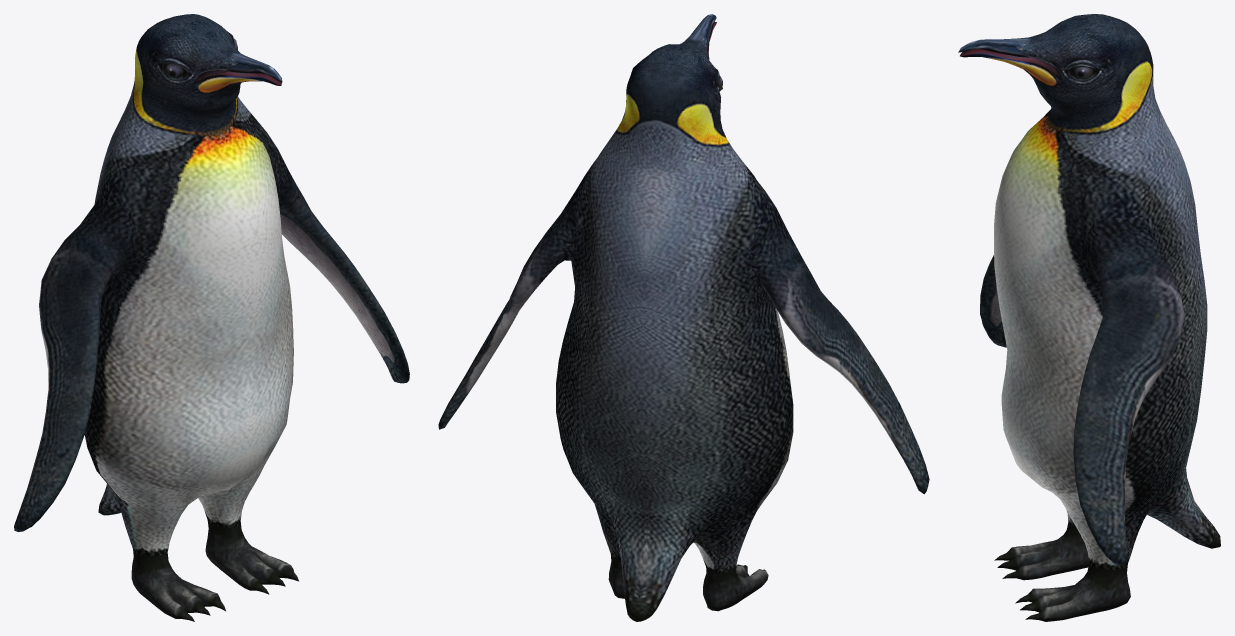
Rendered from Pingvin.fbx.
3 views of the same model, side by side, from view 1: azimuth 30°, elevation 25°; view 2: azimuth 150°, elevation 25°; view 3: azimuth 270°, elevation 25° (orthographic). The views are drawn at different scales.
Visible parts, largest first — view 1: penguin; view 2: penguin; view 3: penguin.
Part boxes in pixels (x1,y1,x2,y2): penguin: [14, 14, 409, 621]; penguin: [438, 14, 929, 621]; penguin: [958, 14, 1220, 621].
Bounding box in the file's own units: 5035 × 6039 × 2550.
Materials: 1 (1 with a texture image).
